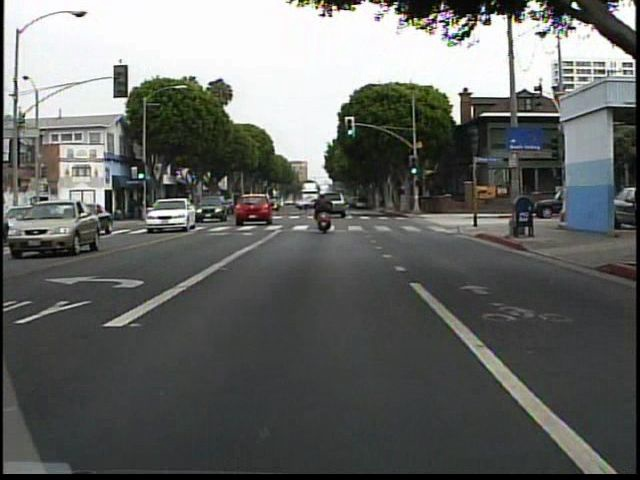person: (310, 186, 341, 243)
